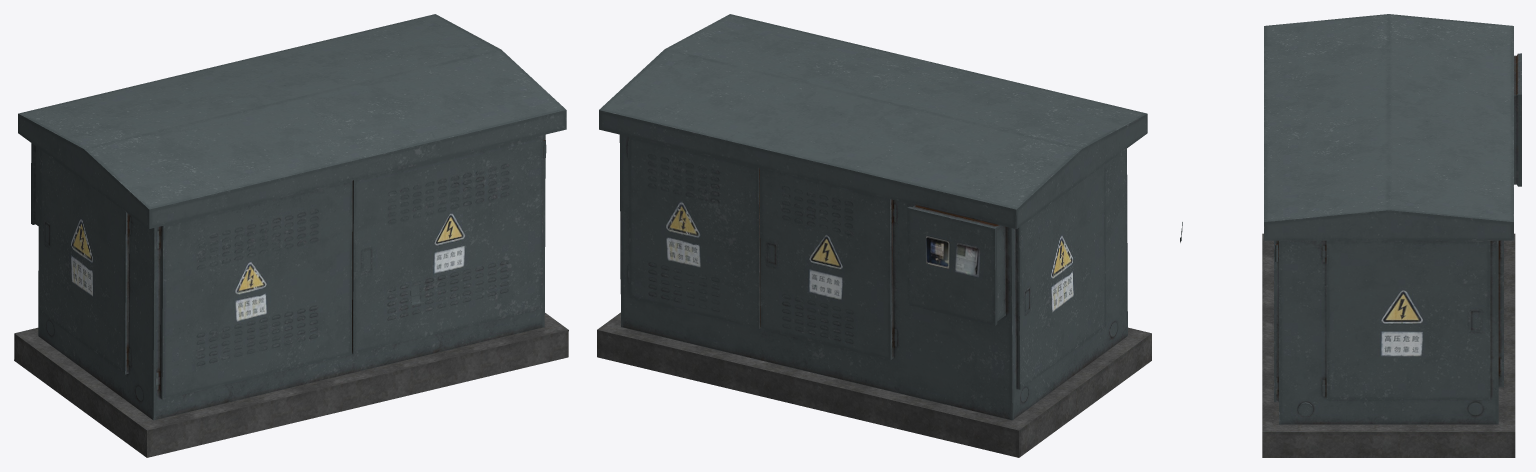
File: CleanElectricalBigBox.glb
The picture shows the model from 3 angles, left to right: view 1: azimuth 30°, elevation 25°; view 2: azimuth 150°, elevation 25°; view 3: azimuth 270°, elevation 25°; orthographic projection. The views are drawn at different scales.
Visible parts, largest first — view 1: g; view 2: g; view 3: g.
Part boxes in pixels (bbox=[...]): g: bbox=[14, 14, 568, 457]; g: bbox=[597, 14, 1151, 457]; g: bbox=[1180, 14, 1521, 457].
Bounding box in the file's own units: 2 × 1.19 × 1.47.
Materials: 1 (1 with a texture image).
